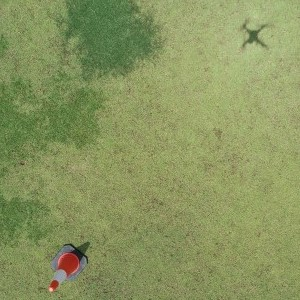traffic cone: (48, 243, 88, 291)
